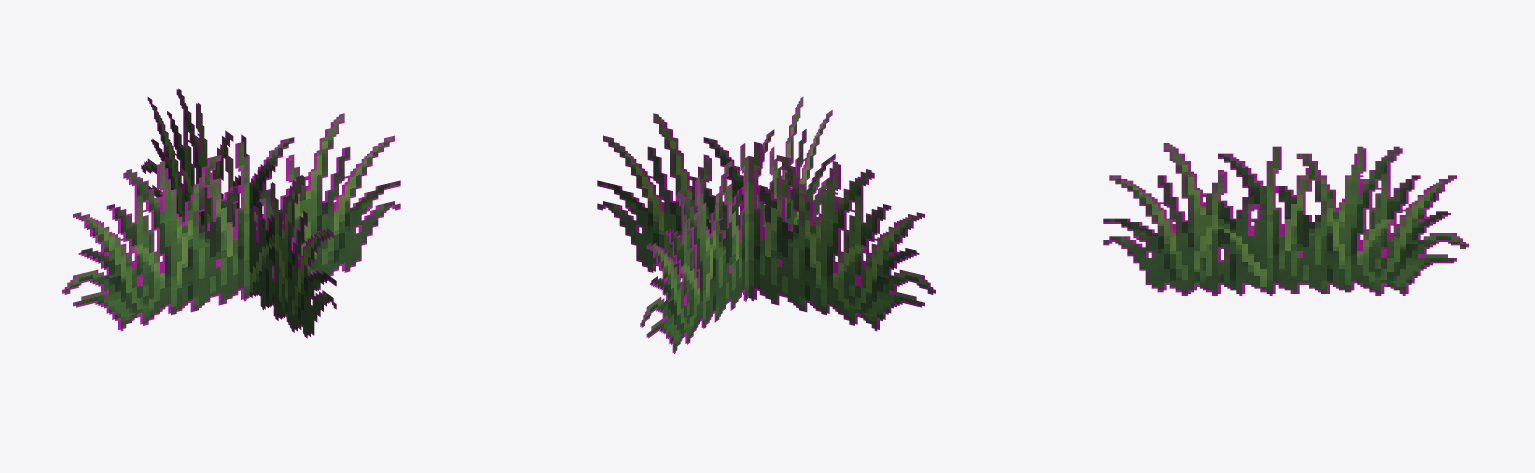
File: city_grass.glb
3 renders of one model, left to right at view 1: azimuth 30°, elevation 25°; view 2: azimuth 150°, elevation 25°; view 3: azimuth 270°, elevation 25°, orthographic. The views are drawn at different scales.
Visible parts, largest first — view 1: city_grass; view 2: city_grass; view 3: city_grass.
Part boxes in pixels (left/top/right/bottom): city_grass: left=62, top=88, right=400, bottom=338; city_grass: left=597, top=96, right=935, bottom=353; city_grass: left=1103, top=143, right=1468, bottom=295.
Bounding box in the file's own units: 3.2 × 1.6 × 3.2.
Materials: 1 (1 with a texture image).
